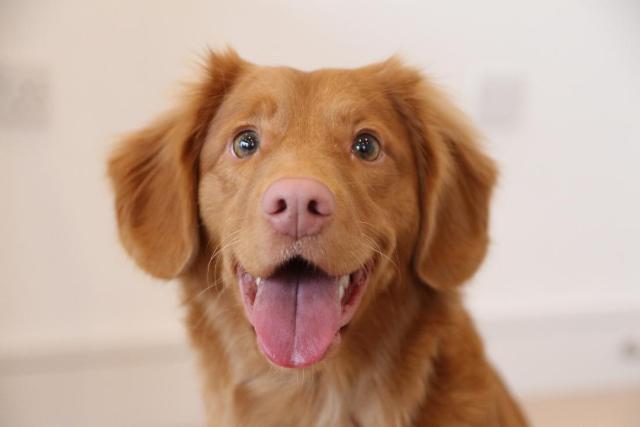dog: (103, 41, 500, 427)
